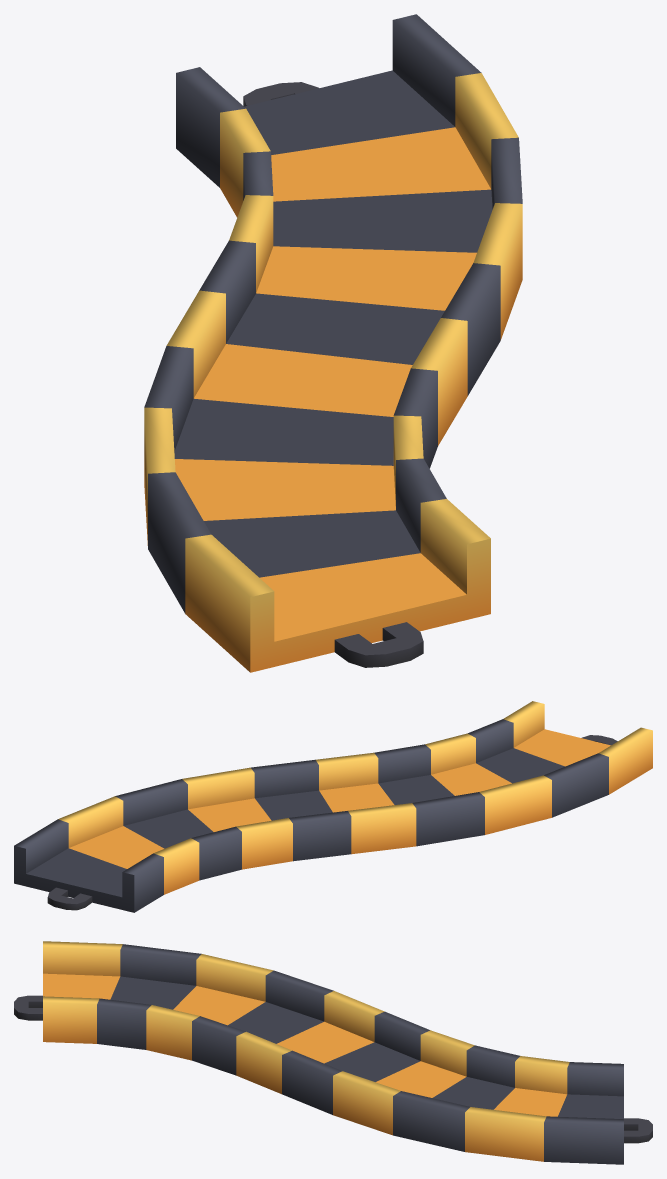
The model's file is track-striped-narrow-curve.fbx.
3 views of the same model, one above another, from view 1: azimuth 30°, elevation 25°; view 2: azimuth 150°, elevation 25°; view 3: azimuth 270°, elevation 25° (orthographic). The views are drawn at different scales.
Visible parts, largest first — view 1: track-striped-narrow-curve; view 2: track-striped-narrow-curve; view 3: track-striped-narrow-curve.
Boxes of the visible parts, x1,y1,x2,y2 form: track-striped-narrow-curve: (144, 14, 522, 672); track-striped-narrow-curve: (14, 701, 652, 912); track-striped-narrow-curve: (14, 941, 652, 1164).
Bounding box in the file's own units: 300 × 30 × 440.
